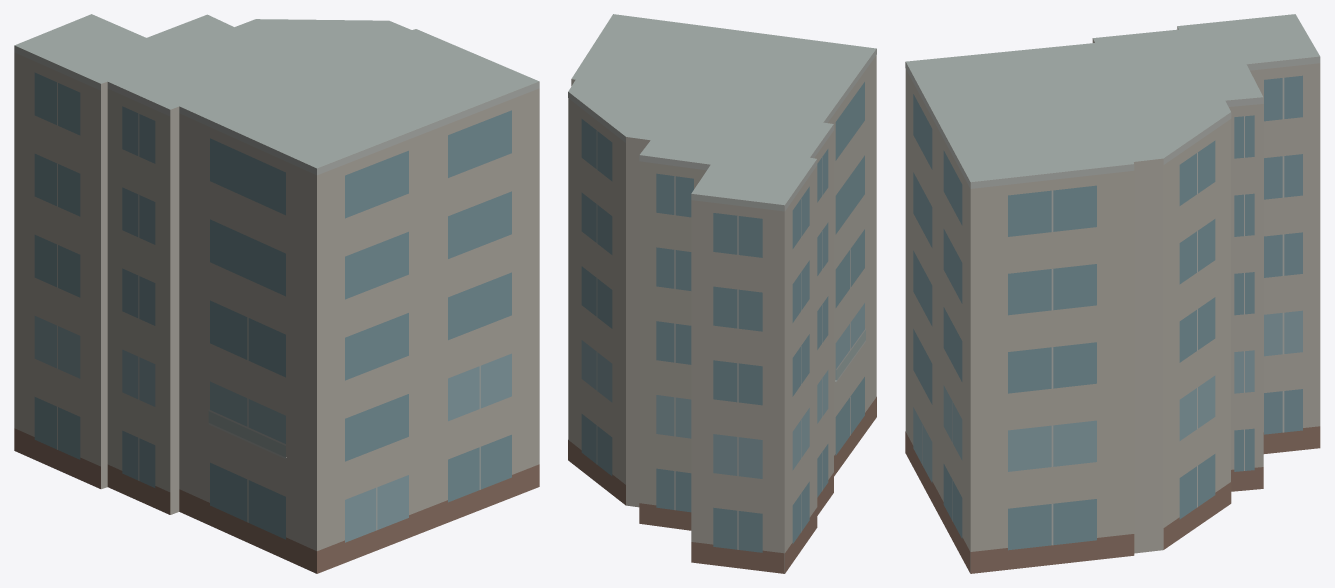
The model's file is survey-upis-32651069.glb.
3 renders of one model, left to right at view 1: azimuth 30°, elevation 25°; view 2: azimuth 150°, elevation 25°; view 3: azimuth 270°, elevation 25°, orthographic. The views are drawn at different scales.
Parts seen in each view (by area): view 1: survey-upis-32651069.tmp; view 2: survey-upis-32651069.tmp; view 3: survey-upis-32651069.tmp.
Boxes of the visible parts, x1,y1,x2,y2 form: survey-upis-32651069.tmp: (14, 14, 539, 573); survey-upis-32651069.tmp: (568, 14, 876, 573); survey-upis-32651069.tmp: (905, 14, 1320, 573).
Bounding box in the file's own units: 13.19 × 14.3 × 13.74.
